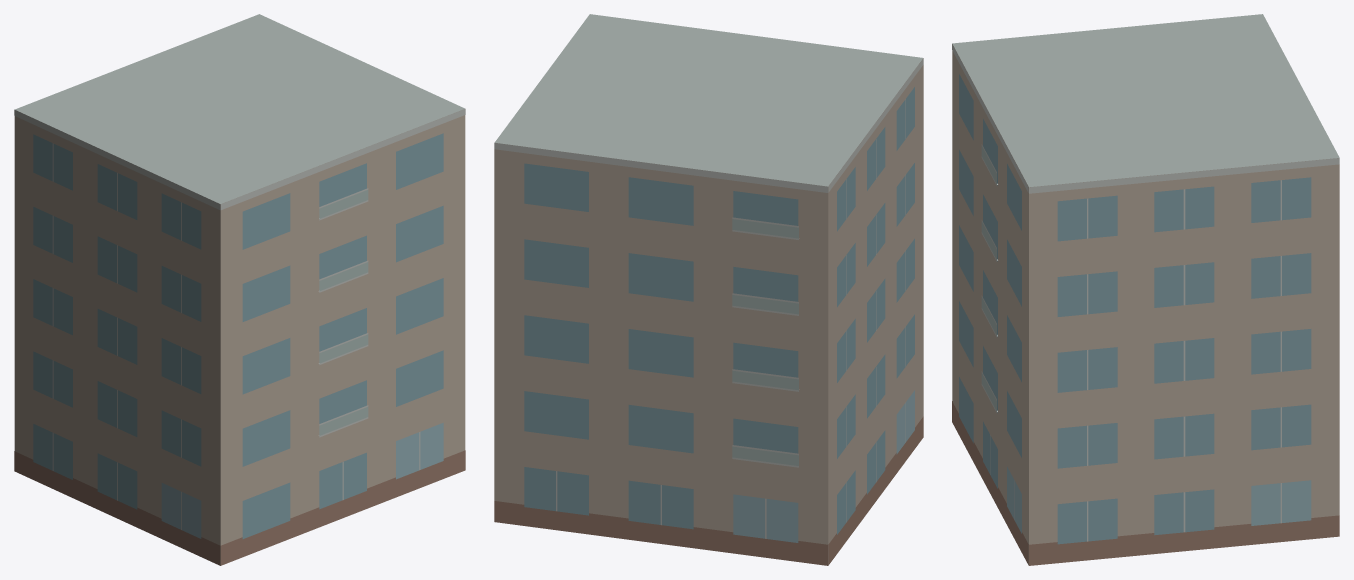
The model's file is survey-upis-33019811.glb.
The picture shows the model from 3 angles, left to right: view 1: azimuth 30°, elevation 25°; view 2: azimuth 150°, elevation 25°; view 3: azimuth 270°, elevation 25°; orthographic projection. The views are drawn at different scales.
Visible parts, largest first — view 1: survey-upis-33019811.tmp; view 2: survey-upis-33019811.tmp; view 3: survey-upis-33019811.tmp.
Part boxes in pixels (x1,y1,x2,y2): survey-upis-33019811.tmp: (14, 14, 465, 565); survey-upis-33019811.tmp: (494, 14, 923, 565); survey-upis-33019811.tmp: (952, 14, 1339, 565).
Bounding box in the file's own units: 13.84 × 14.1 × 13.09.
